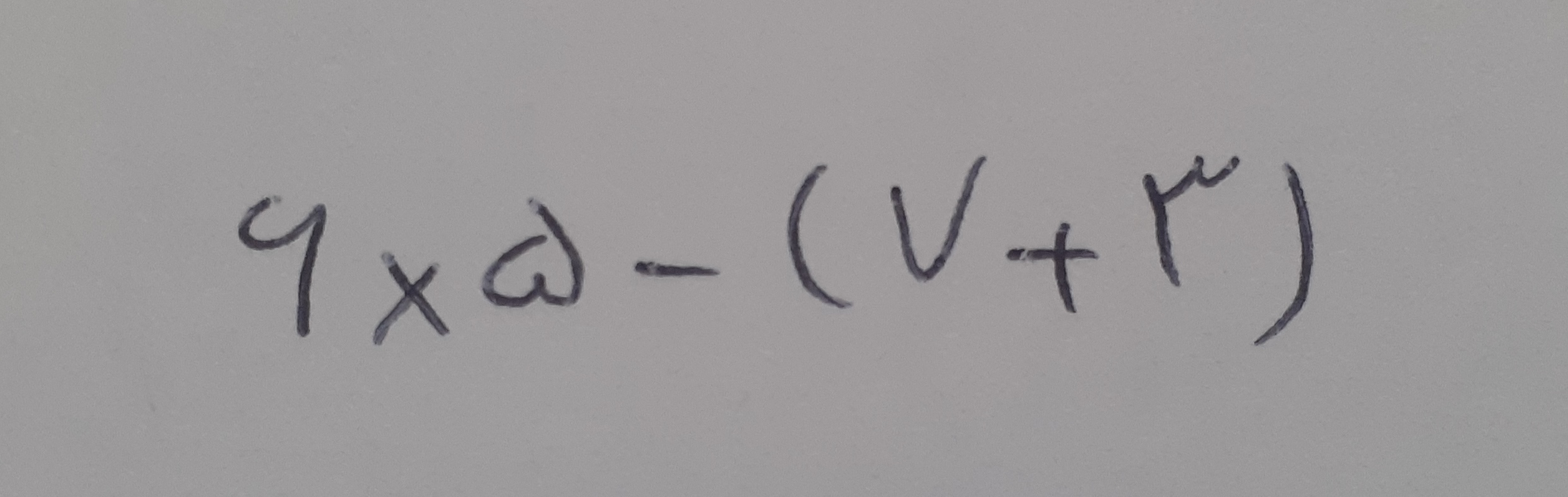character: (1143, 155, 1240, 286), (238, 196, 327, 338), (890, 157, 987, 282), (481, 197, 586, 309), (1253, 161, 1315, 349), (786, 163, 854, 309), (1007, 221, 1099, 312), (372, 250, 450, 344), (633, 260, 717, 278)
